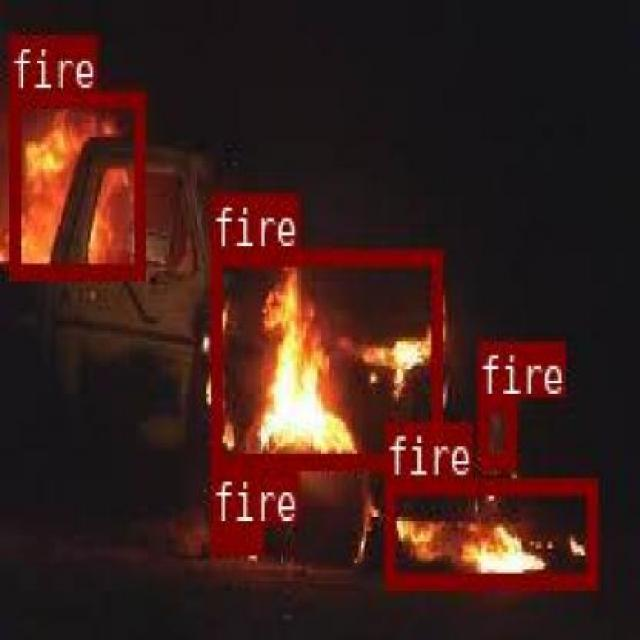Fire: (209, 249, 440, 466), (6, 90, 143, 276), (383, 477, 594, 585), (477, 395, 514, 468), (209, 522, 262, 550)
